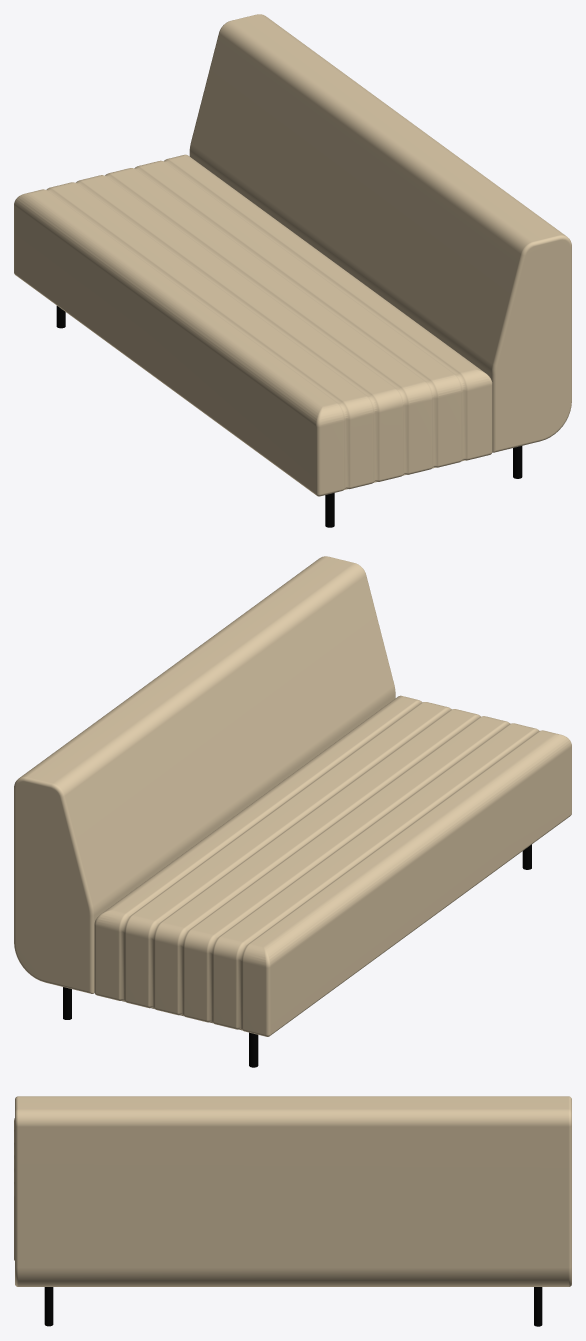
File: Sofa 9.fbx
3 renders of one model, top to bottom at view 1: azimuth 30°, elevation 25°; view 2: azimuth 150°, elevation 25°; view 3: azimuth 270°, elevation 25°, orthographic. The views are drawn at different scales.
Visible parts, largest first — view 1: 3 seat no0, 3 seat no; view 2: 3 seat no0, 3 seat no; view 3: 3 seat no, 3 seat no2, 3 seat no4.
Part boxes in pixels (bbox=[...]): 3 seat no0: bbox=[14, 154, 492, 496]; 3 seat no: bbox=[189, 14, 571, 452]; 3 seat no0: bbox=[94, 695, 571, 1036]; 3 seat no: bbox=[14, 556, 395, 993]; 3 seat no: bbox=[15, 1096, 571, 1286]; 3 seat no2: bbox=[44, 1287, 53, 1326]; 3 seat no4: bbox=[534, 1287, 542, 1326].
Size of the model in its own units: 51613 by 47891 by 106637.
